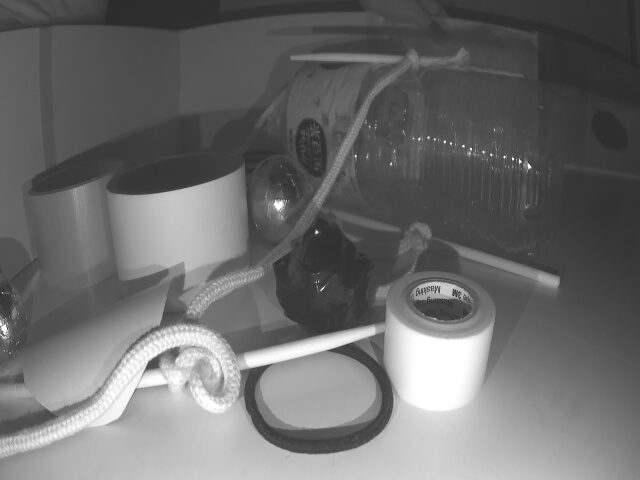Dead: (278, 220, 369, 336)
Live: (248, 154, 316, 244), (0, 267, 26, 372)
